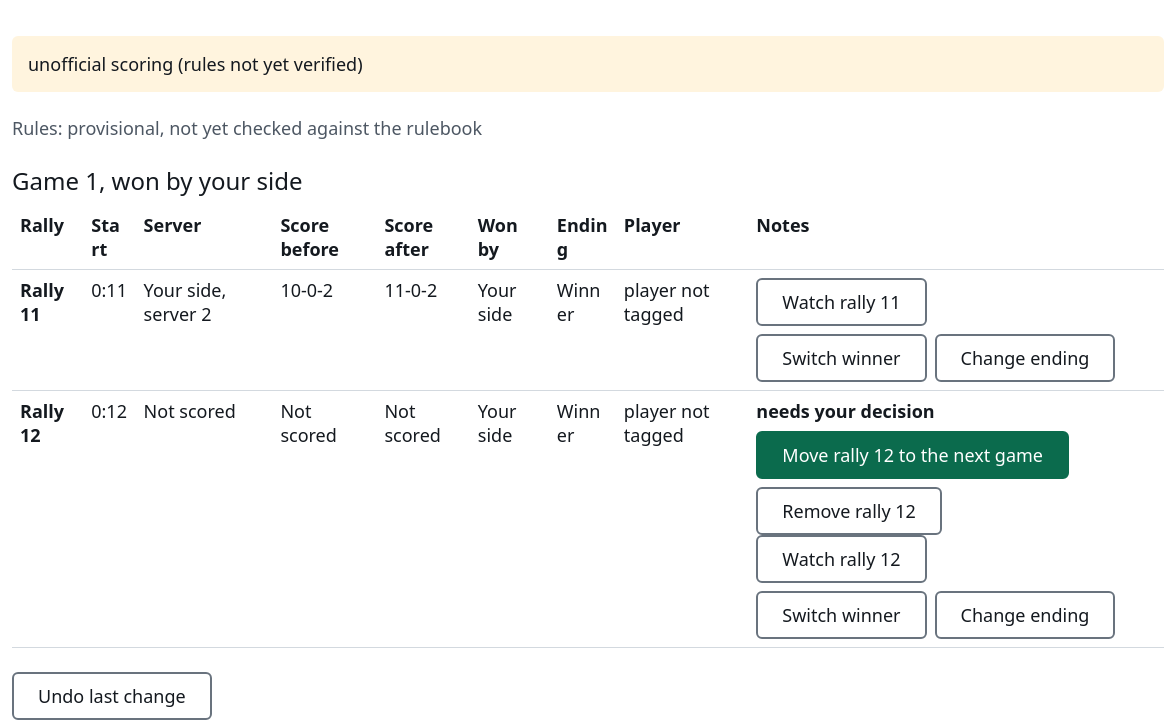
Test: needs your decision (ST-032) › moving sends the decision with If-Match and shows the new sheet
This screenshot has width=1164, height=722.
What coordinates should you click on to do the following:
click the button "Move rally 12 to the next game"
I would click on:
 (913, 455)
Its box is [756,431,1069,479].
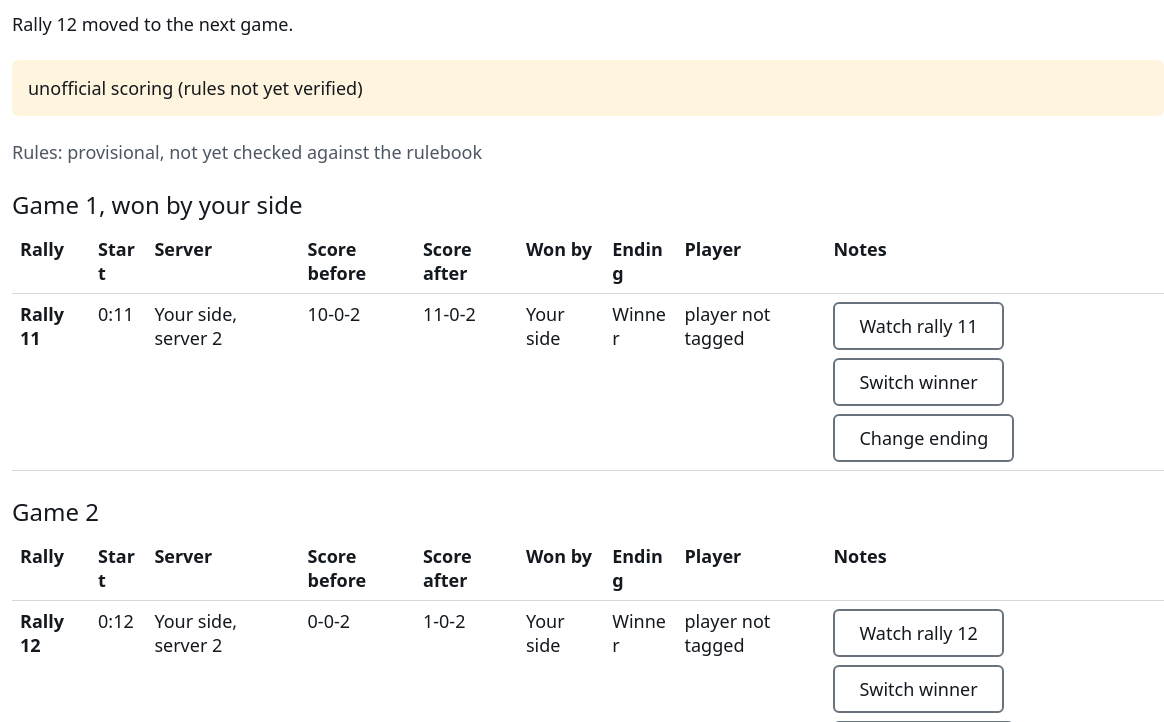
Check: the text "Rally 12 moved to the next game." is shown, box [12,12,293,36]
Check: the text "needs your decision" is gone
